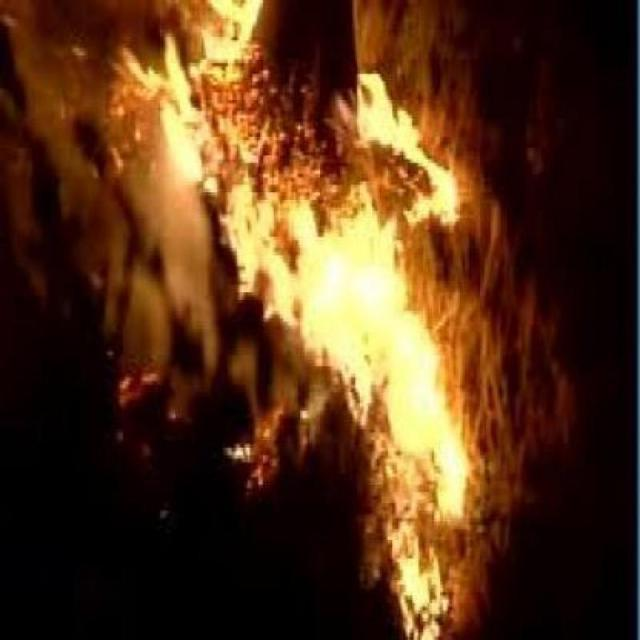Fire: (201, 105, 492, 640), (101, 50, 200, 350), (110, 348, 172, 456)
